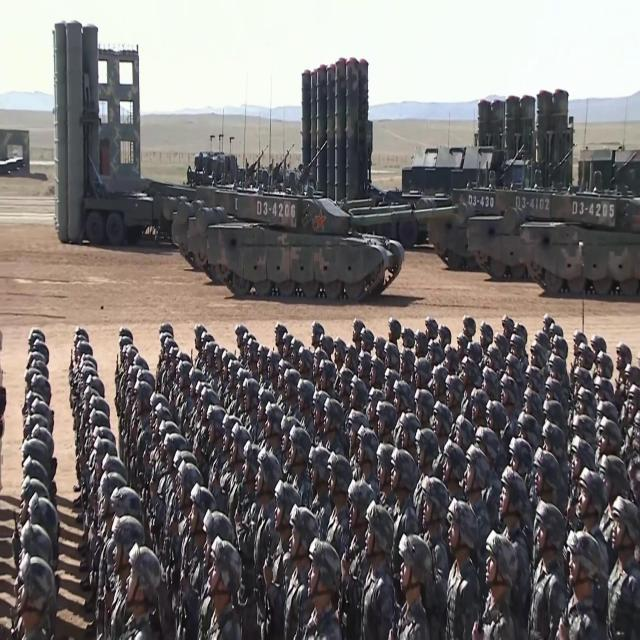Soldier: (302, 538, 358, 640), (603, 494, 640, 640), (196, 535, 250, 634), (475, 525, 521, 640), (393, 525, 439, 637), (565, 528, 610, 640), (115, 543, 163, 640), (443, 493, 483, 603), (529, 499, 568, 608), (359, 500, 394, 611)
